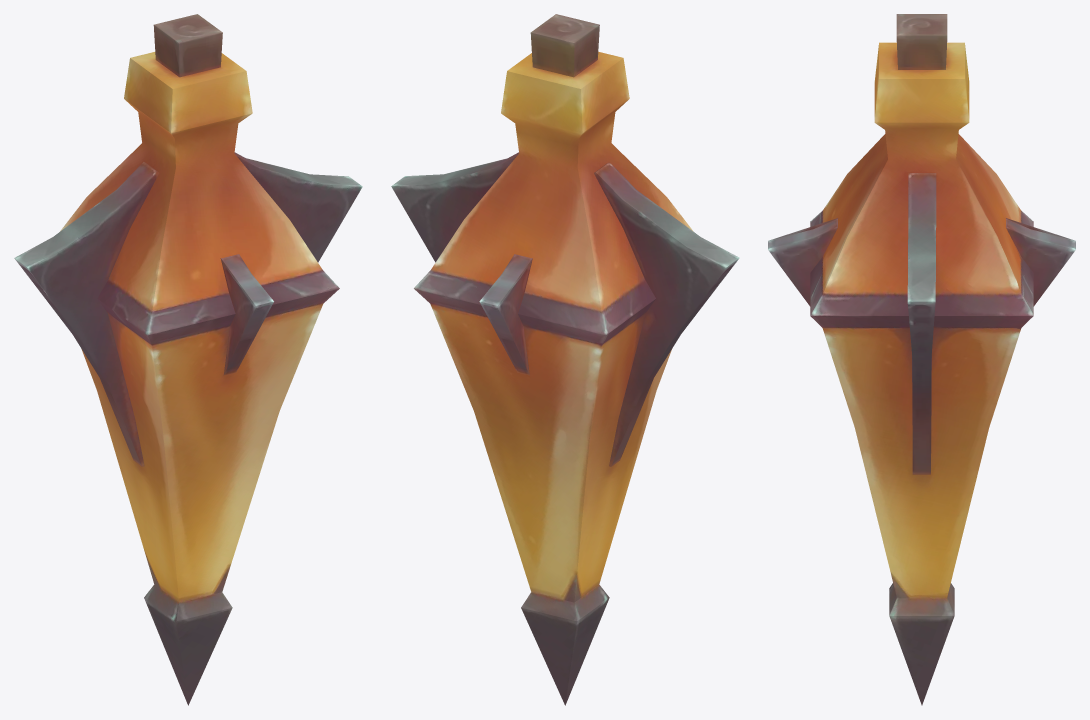
File: potion2.glb
The picture shows the model from 3 angles, left to right: view 1: azimuth 30°, elevation 25°; view 2: azimuth 150°, elevation 25°; view 3: azimuth 270°, elevation 25°; orthographic projection.
Parts seen in each view (by area): view 1: Cube_Material_0; view 2: Cube_Material_0; view 3: Cube_Material_0.
Boxes of the visible parts, left/top/right/bottom form: Cube_Material_0: left=14, top=14, right=362, bottom=705; Cube_Material_0: left=391, top=14, right=739, bottom=705; Cube_Material_0: left=768, top=14, right=1075, bottom=705.
Bounding box in the file's own units: 4.86 × 9.4 × 3.85.
Materials: 1 (1 with a texture image).
